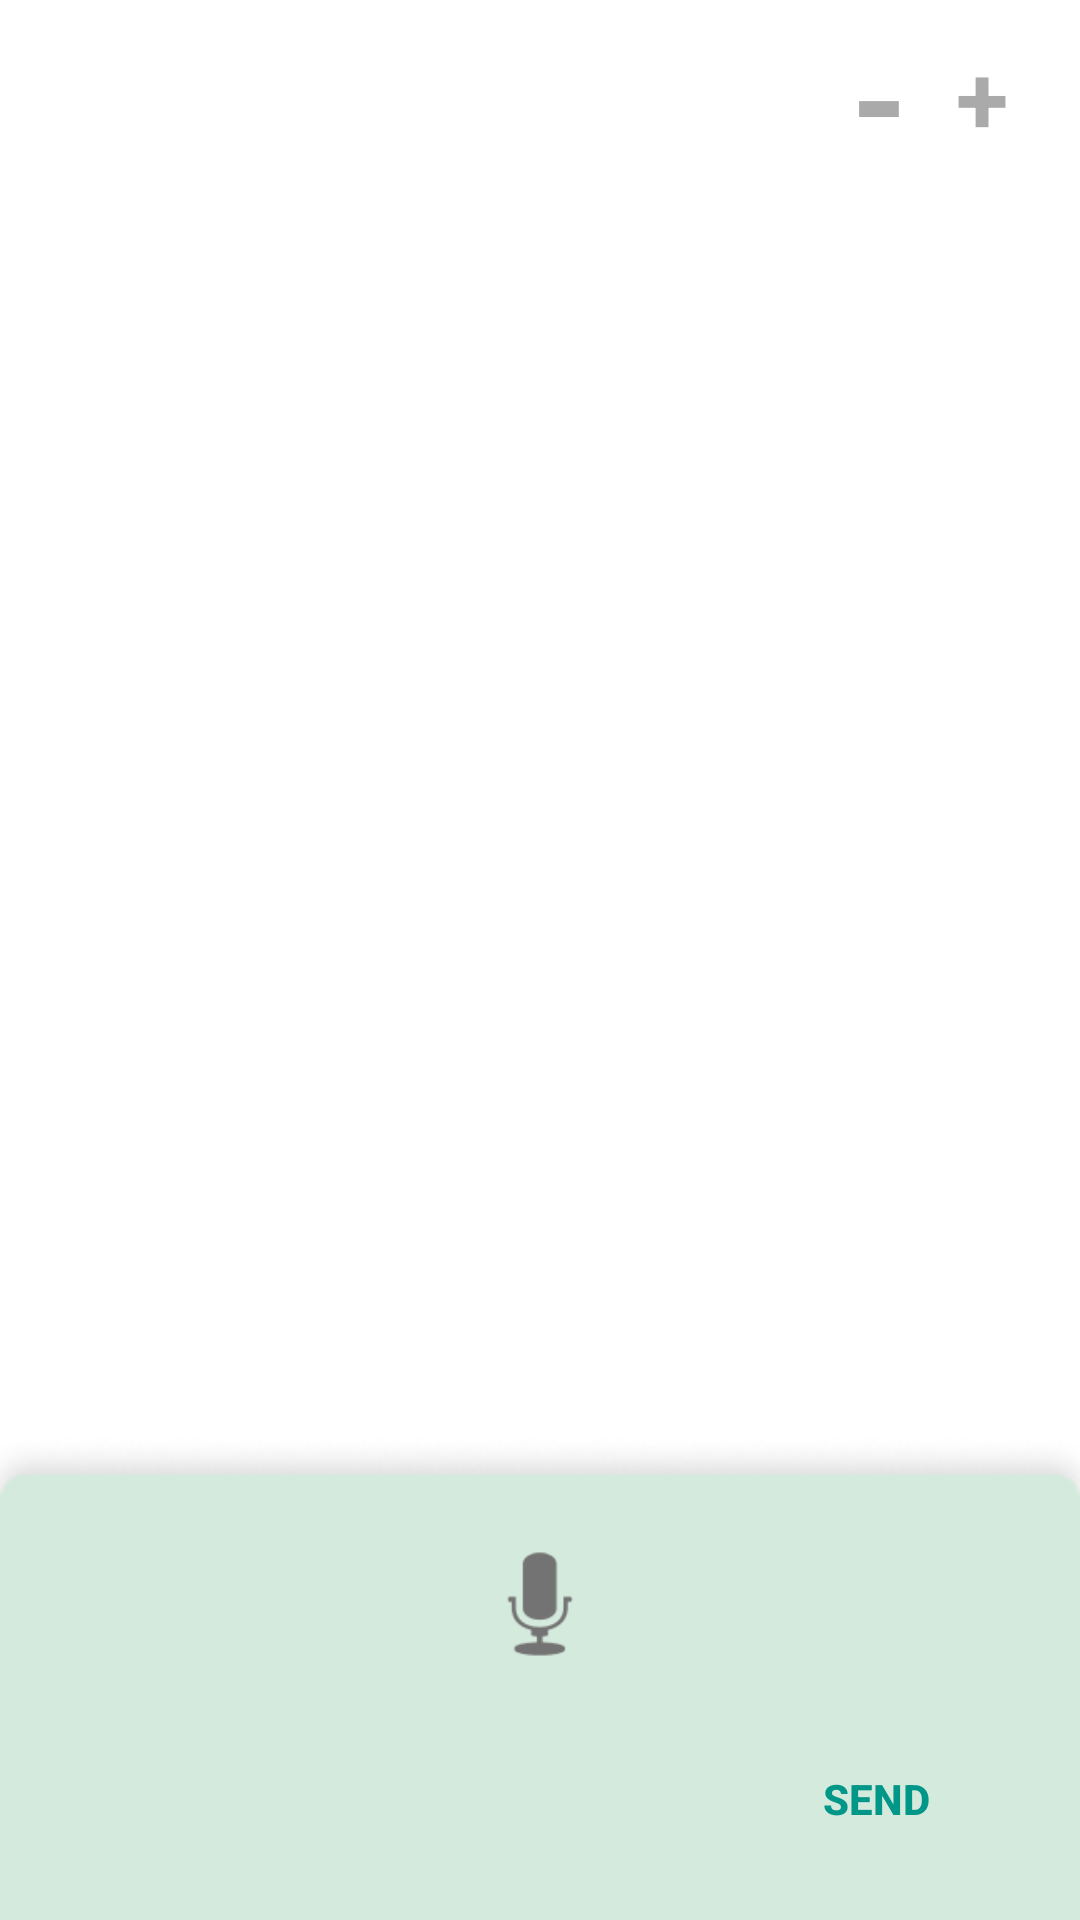

Locate icon controls on the screen. Image size 1080×1920, boxes as (x1, y1, x2, y2).
speak now: (507, 1552, 573, 1656)
